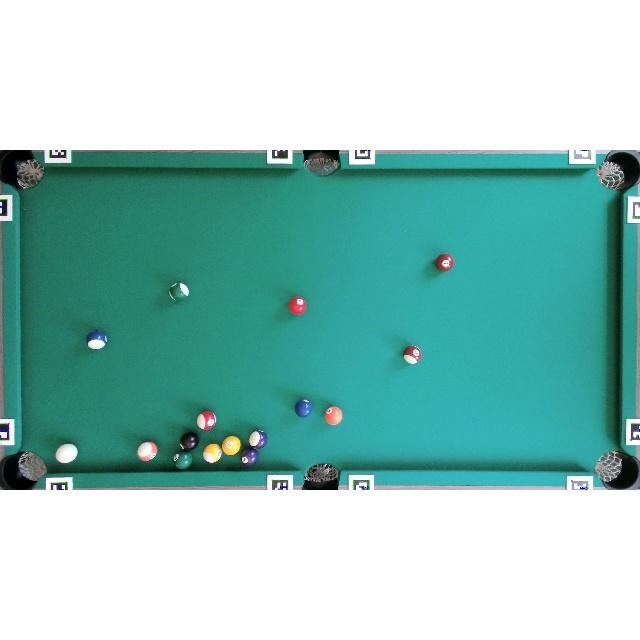cue ball: (55, 443, 79, 464)
other: (169, 281, 190, 302), (86, 330, 108, 350), (137, 442, 158, 462), (173, 449, 193, 470), (202, 443, 222, 463), (288, 296, 308, 316), (248, 430, 268, 450), (222, 436, 242, 456), (179, 432, 199, 452), (402, 345, 422, 364), (197, 411, 216, 430), (240, 447, 259, 466), (295, 398, 313, 418), (324, 406, 342, 426), (435, 254, 454, 272)
